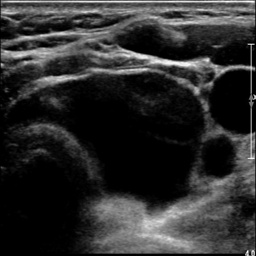mass: (17, 74, 205, 201)
